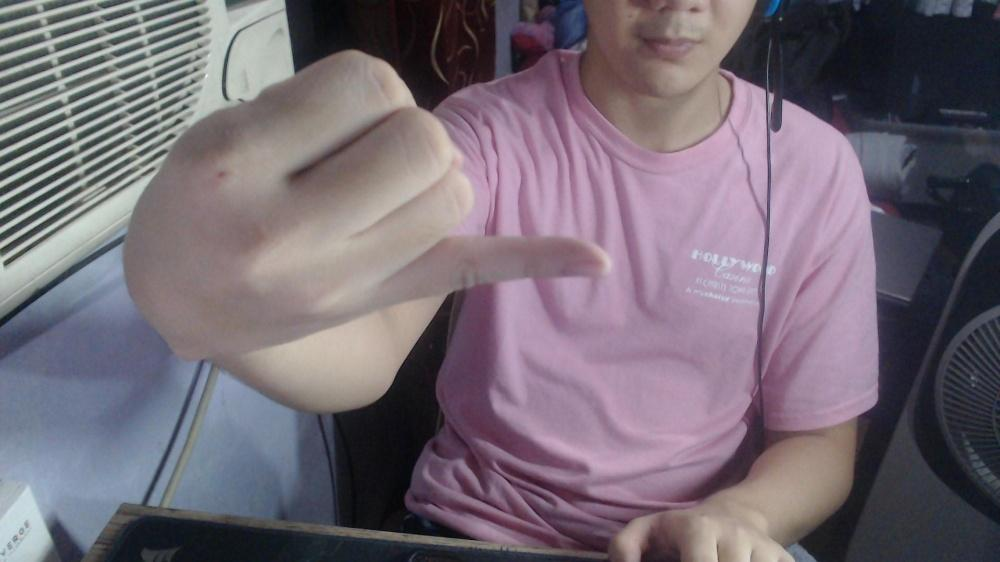j: (119, 45, 615, 366)
